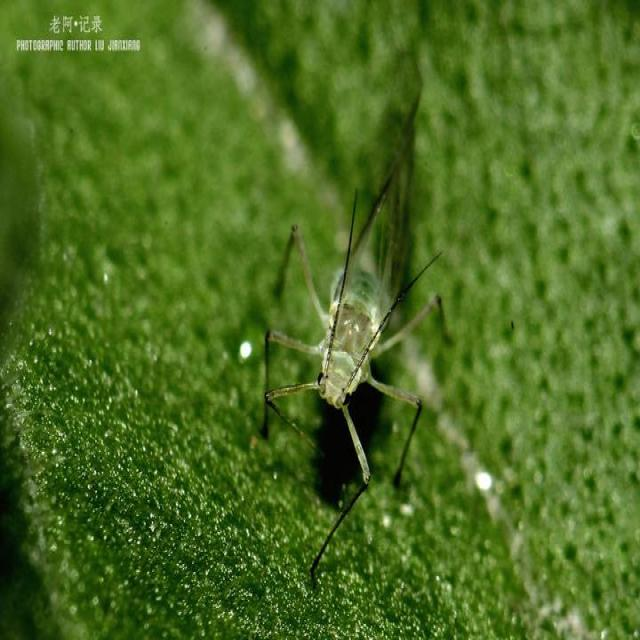Aphids: (259, 84, 472, 564)
